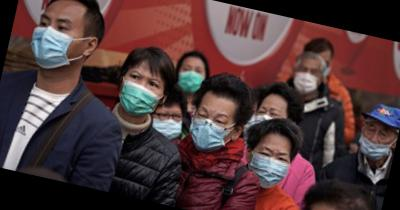mask_weared_incorrect: (356, 121, 399, 164)
with_mask: (26, 10, 93, 77), (114, 66, 169, 122), (185, 102, 239, 158), (244, 142, 294, 194), (149, 103, 188, 143), (175, 60, 211, 96), (288, 62, 325, 97)
